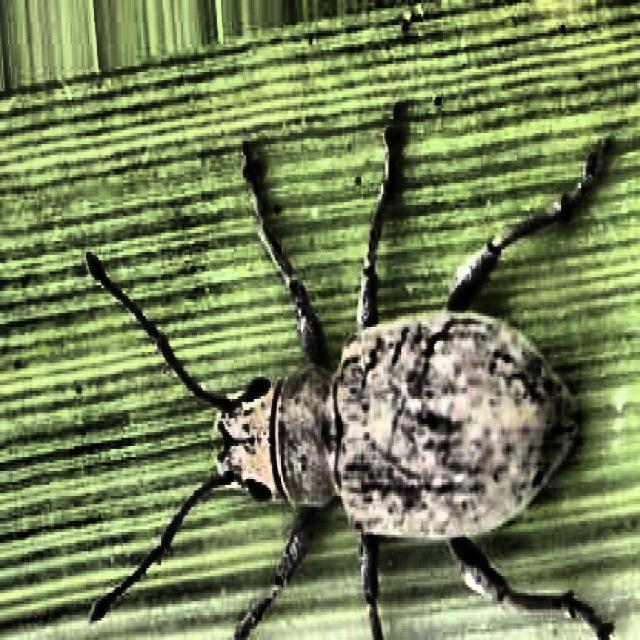Stink bug: (114, 124, 637, 640)
